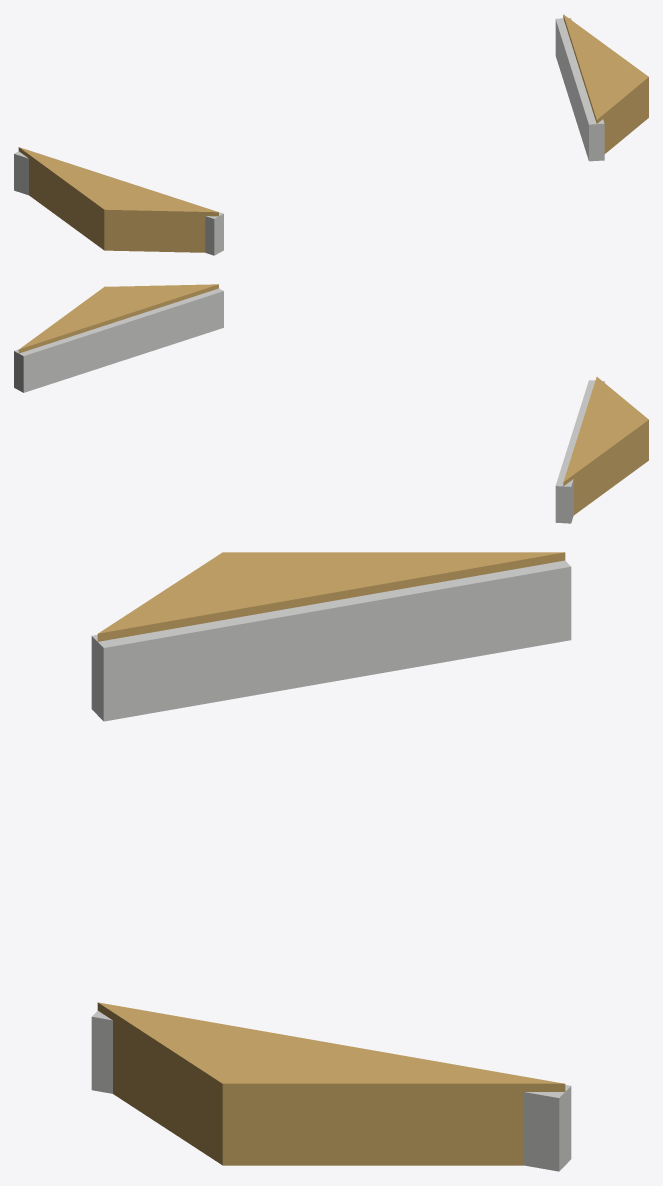
File: Acorn_Slingshots.glb
3 renders of one model, top to bottom at view 1: azimuth 30°, elevation 25°; view 2: azimuth 150°, elevation 25°; view 3: azimuth 270°, elevation 25°, orthographic. The views are drawn at different scales.
Parts seen in each view (by area): view 1: SlingBody1, SlingBody2, Sling2, Sling1; view 2: Sling2, SlingBody1, SlingBody2, Sling1; view 3: SlingBody2, Sling1, SlingBody1, Sling2.
Part boxes in pixels (<box>): SlingBody1: <box>18,147,218,252</box>; SlingBody2: <box>563,14,648,153</box>; Sling2: <box>555,18,604,161</box>; Sling1: <box>14,148,223,255</box>; Sling2: <box>14,288,223,392</box>; SlingBody1: <box>563,377,648,515</box>; SlingBody2: <box>18,284,218,353</box>; Sling1: <box>555,380,604,523</box>; SlingBody2: <box>97,1002,565,1165</box>; Sling1: <box>91,560,571,721</box>; SlingBody1: <box>97,552,565,641</box>; Sling2: <box>91,1010,571,1171</box>.
Bounding box in the file's own units: 0.3997 × 0.028 × 0.1489.
